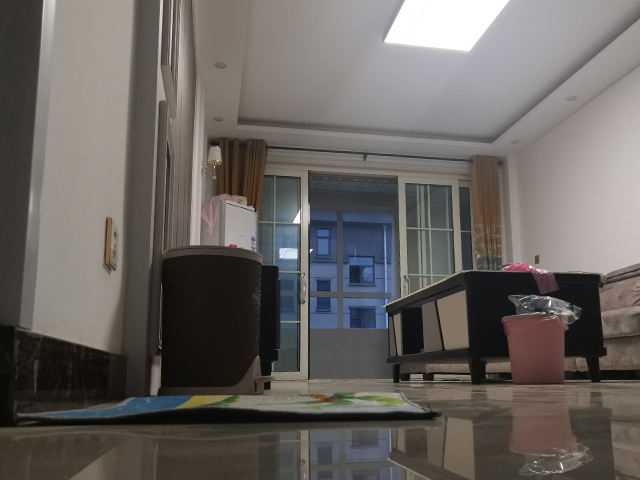carpet: (12, 390, 442, 430)
sofa: (580, 262, 640, 377)
table: (383, 267, 610, 387)
trashcan: (154, 241, 267, 398), (496, 309, 574, 387)
